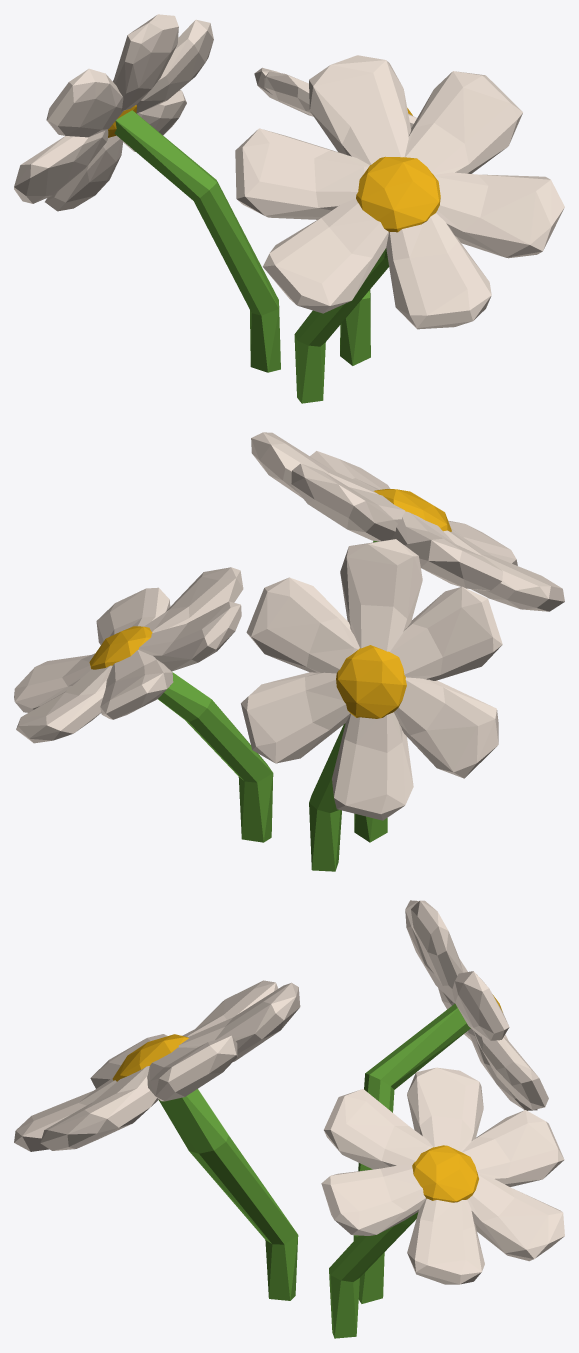
File: flowers_2.glb
3 renders of one model, top to bottom at view 1: azimuth 30°, elevation 25°; view 2: azimuth 150°, elevation 25°; view 3: azimuth 270°, elevation 25°, orthographic. The views are drawn at different scales.
Parts seen in each view (by area): view 1: Plane.002; view 2: Plane.002; view 3: Plane.002.
Boxes of the visible parts, bbox=[...] form: Plane.002: bbox=[14, 14, 564, 403]; Plane.002: bbox=[14, 432, 564, 871]; Plane.002: bbox=[14, 900, 564, 1338].
Size of the model in its own units: 0.4529 by 0.3345 by 0.473.
